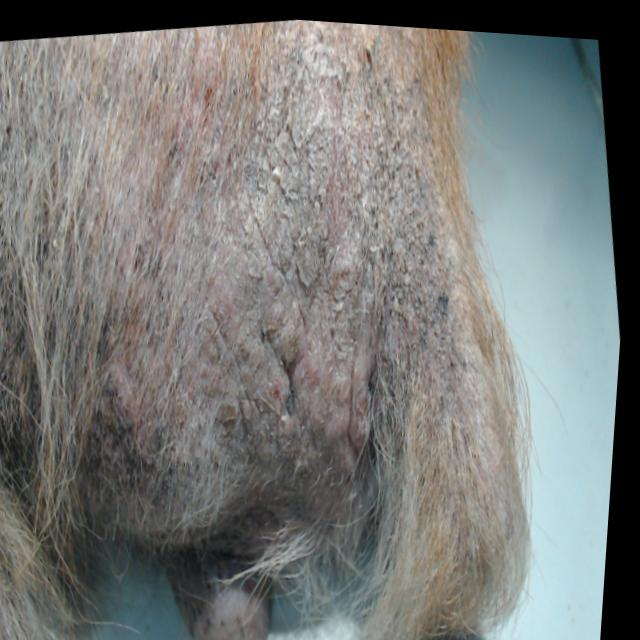demodicosis: (130, 117, 403, 460)
